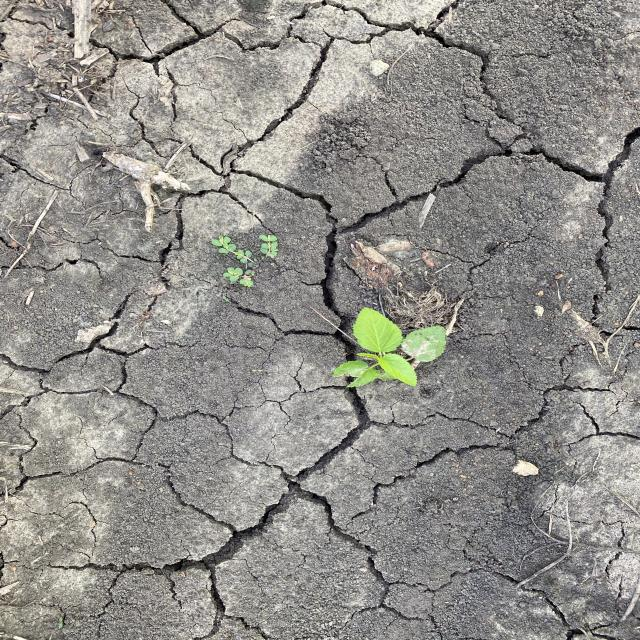PricklySida: (330, 305, 449, 390)
SpottedSpurge: (210, 229, 282, 289)
